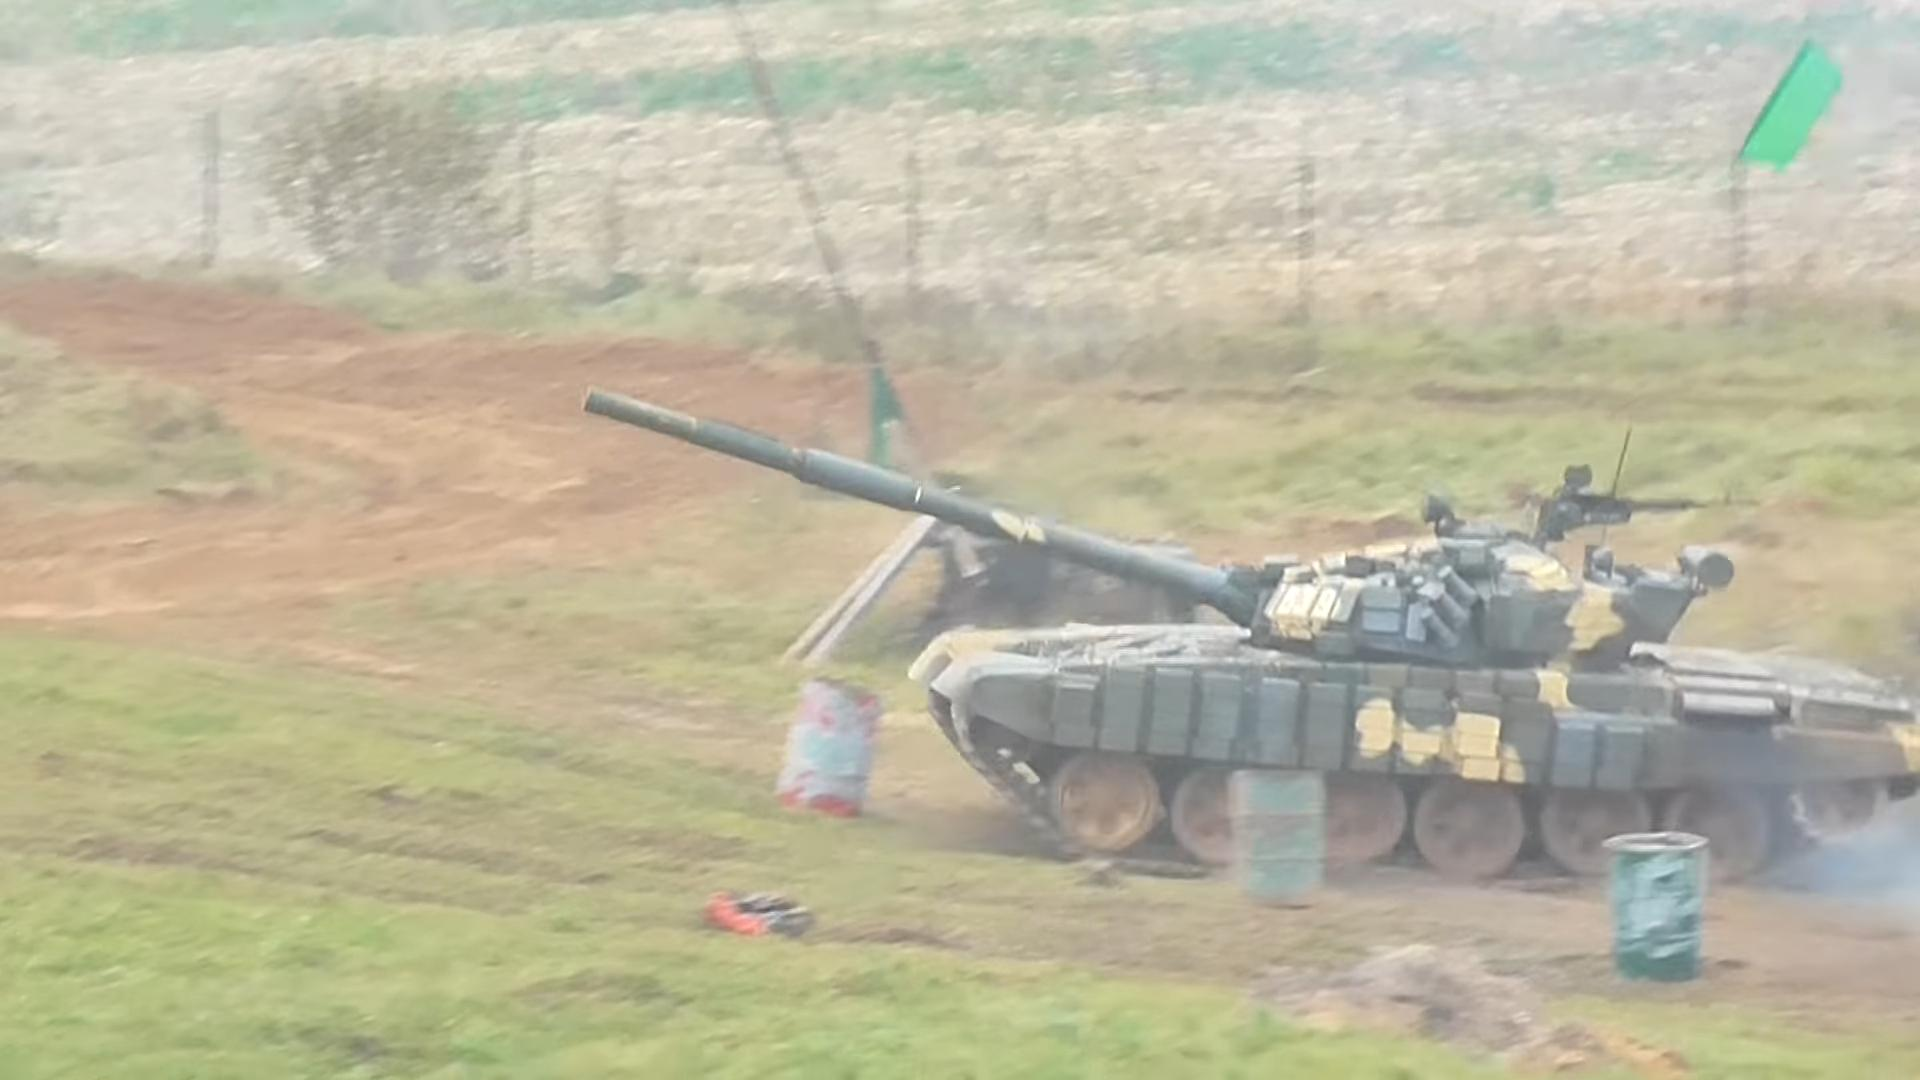tank: (580, 389, 1919, 891)
